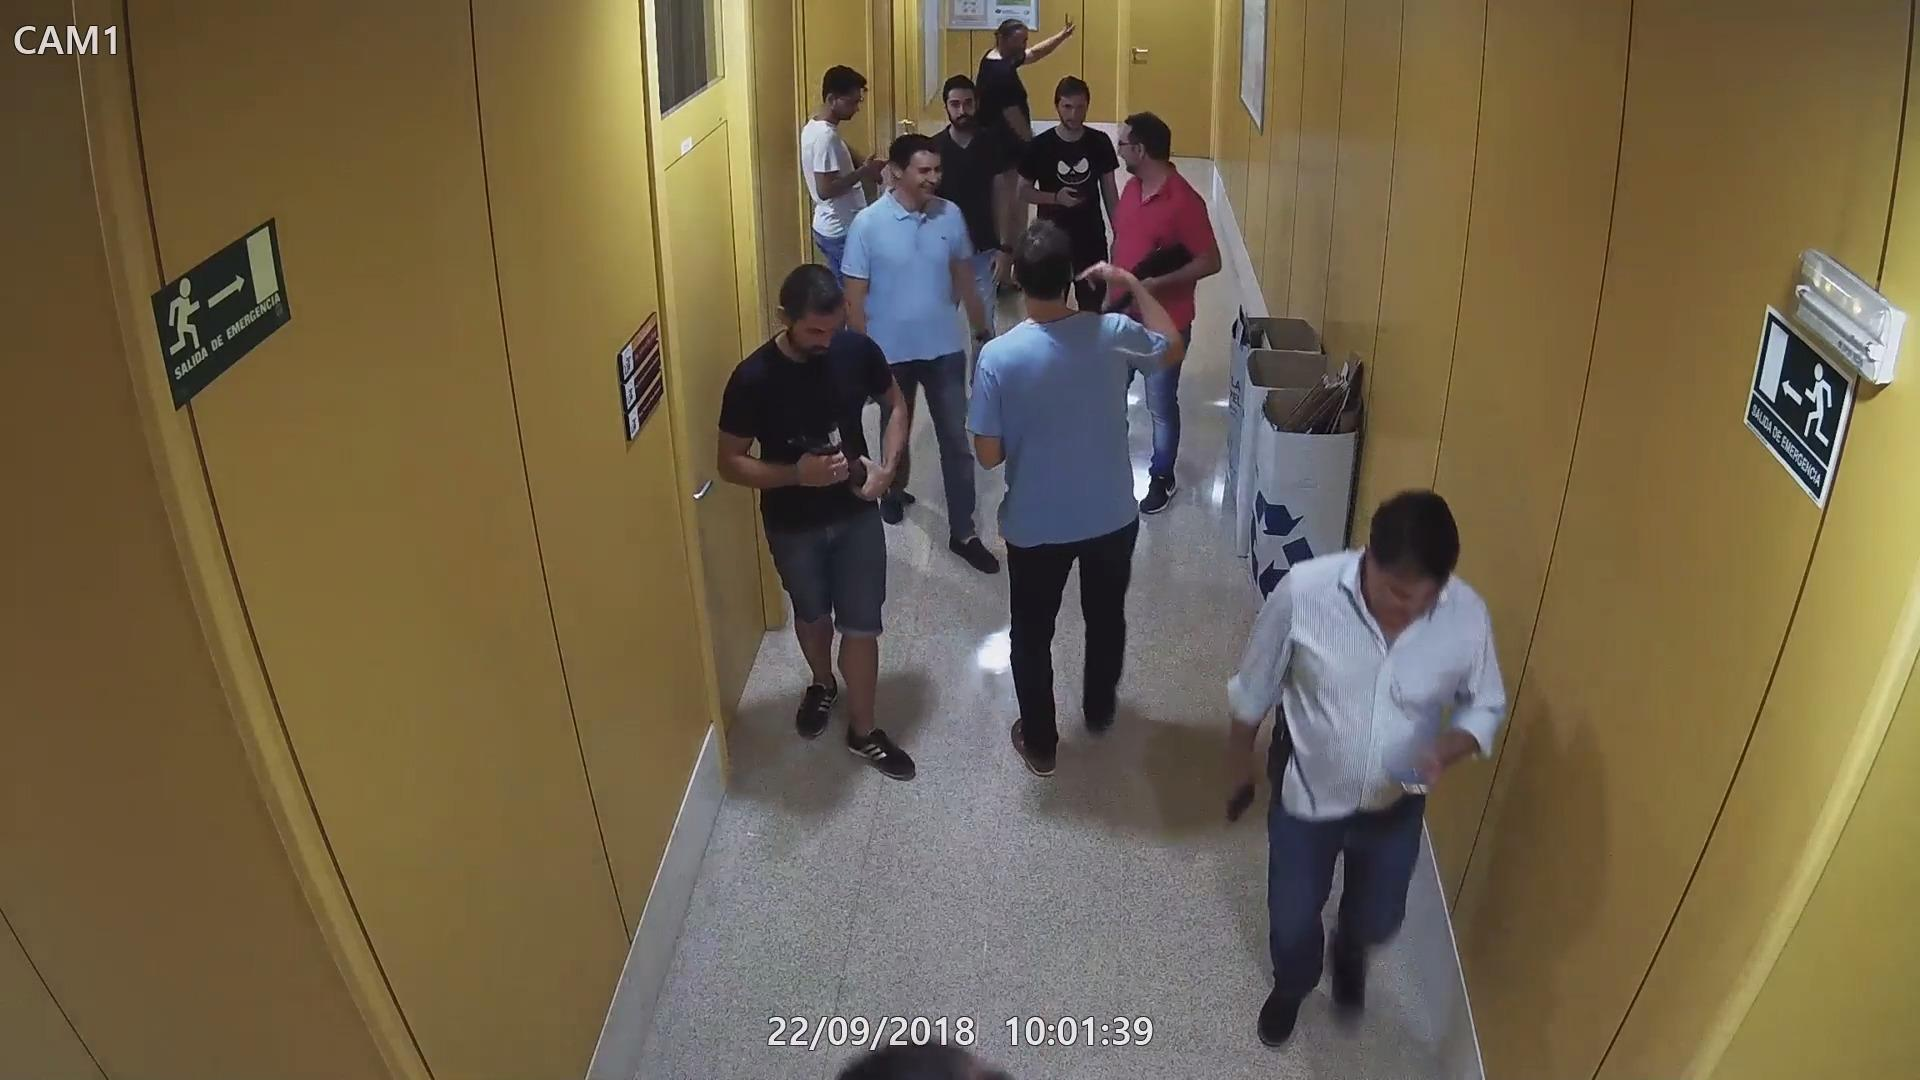Handgun: (1225, 745, 1269, 823)
